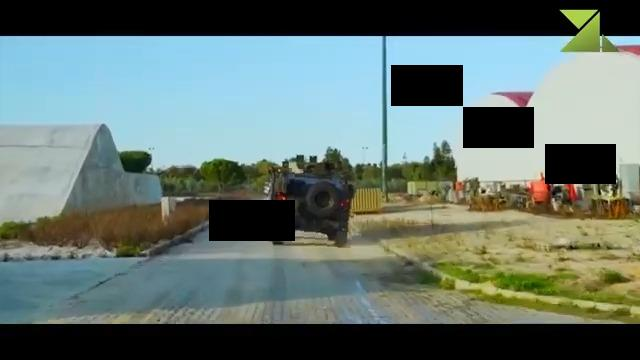MIL_HMMWV: (266, 169, 356, 247)
